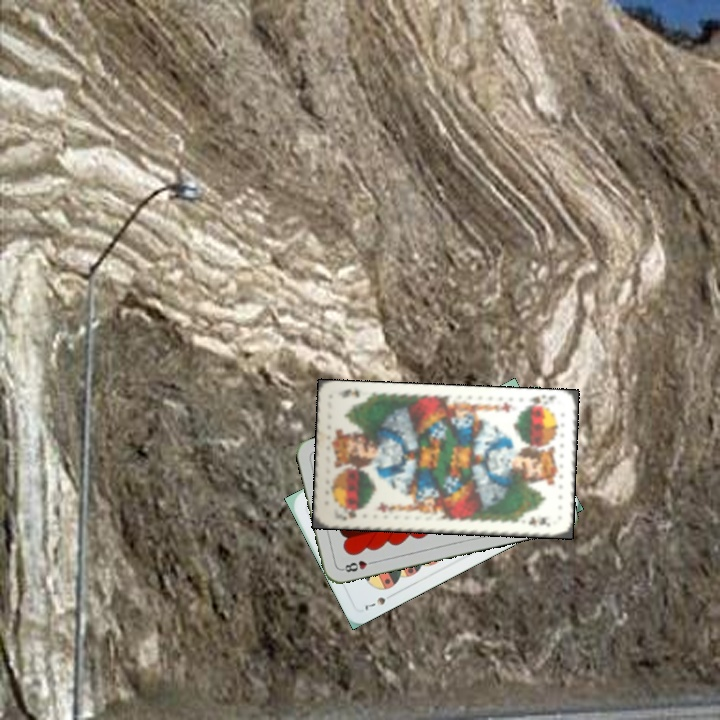H8: (338, 556, 378, 575)
S7: (360, 593, 388, 613)
SK: (521, 392, 547, 411), (339, 505, 366, 523)
